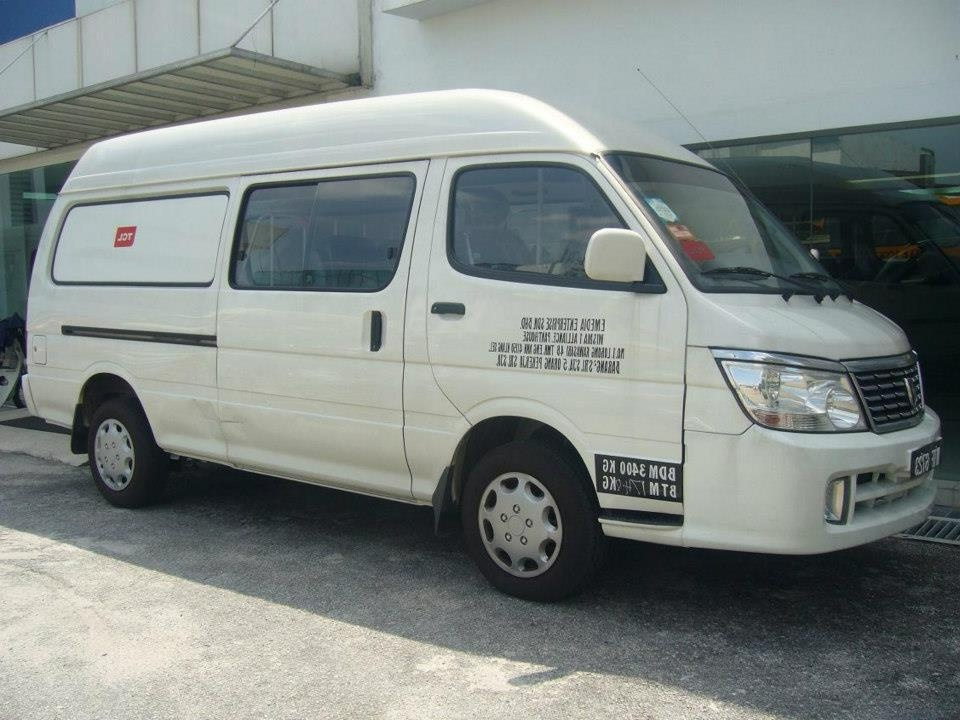van: (18, 88, 937, 578)
